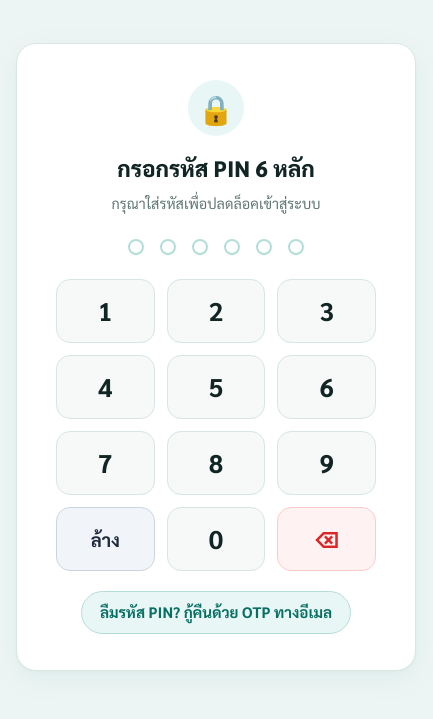
Test case: PinAuthView › shows error alert with remaining attempts on incorrect PIN
Click the button "9".
click(327, 463)  # box [277,431,376,495]
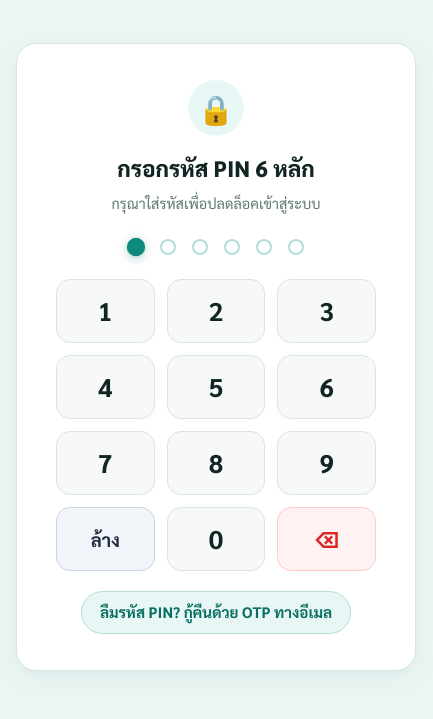
Click the button "9".
click(327, 463)  # box [277,431,376,495]
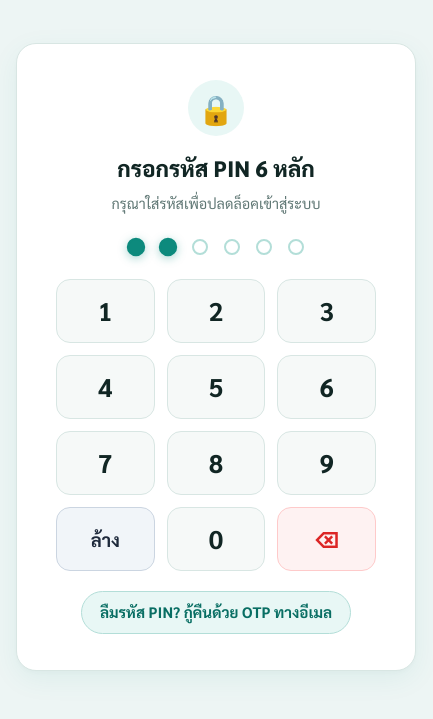
Click the button "9".
click(327, 463)  # box [277,431,376,495]
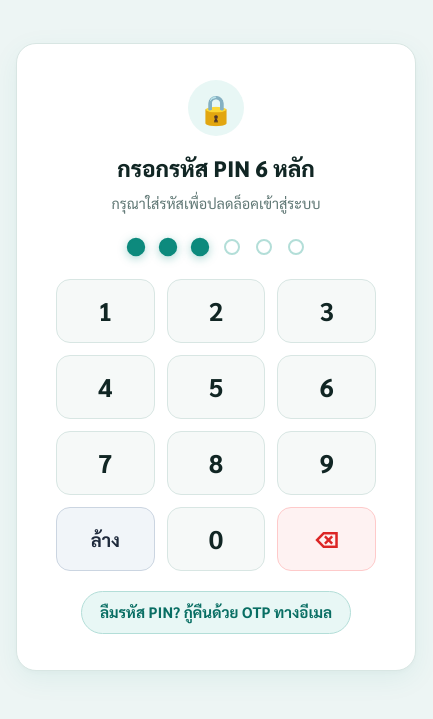
Click the button "9".
click(327, 463)  # box [277,431,376,495]
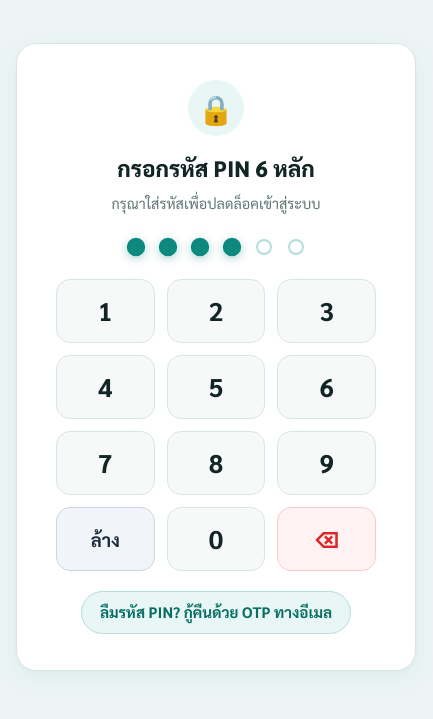
Click the button "9".
click(327, 463)  # box [277,431,376,495]
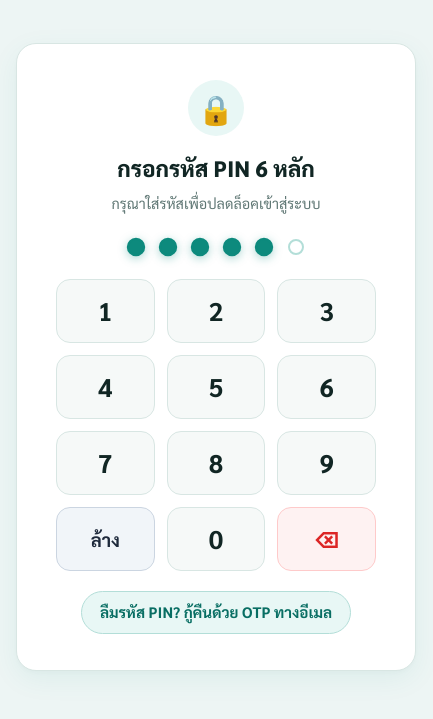
Click the button "9".
click(327, 463)  # box [277,431,376,495]
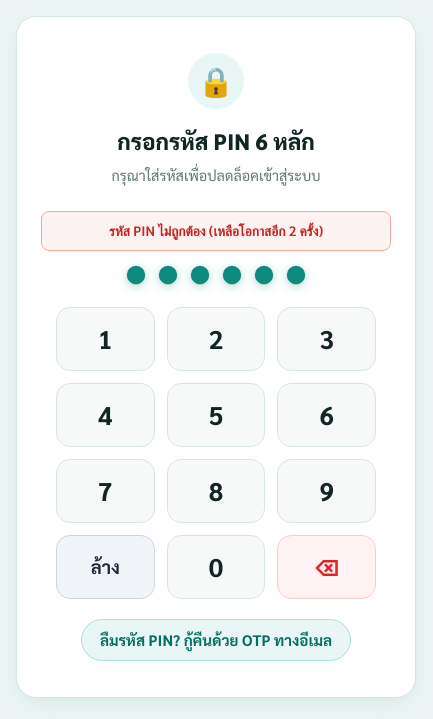
Expected: the text "รหัส PIN ไม่ถูกต้อง (เหลือโอกาสอีก 2 ครั้ง)" is shown, [41,211,391,251]
